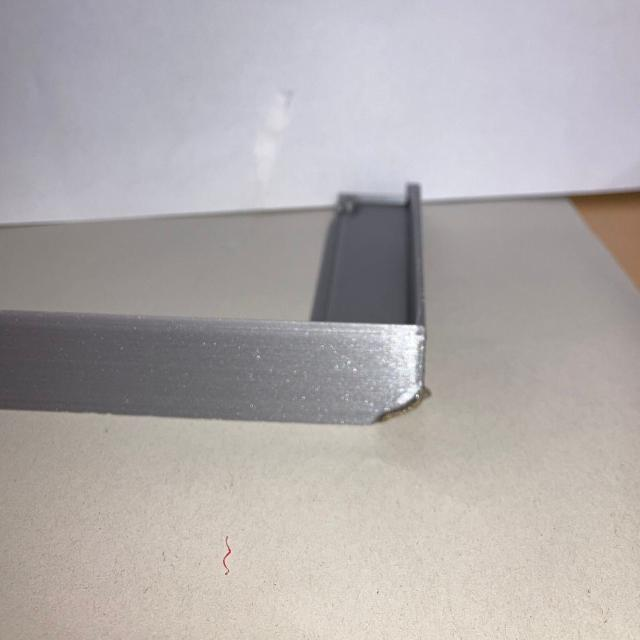Warping: (371, 382, 427, 422)
